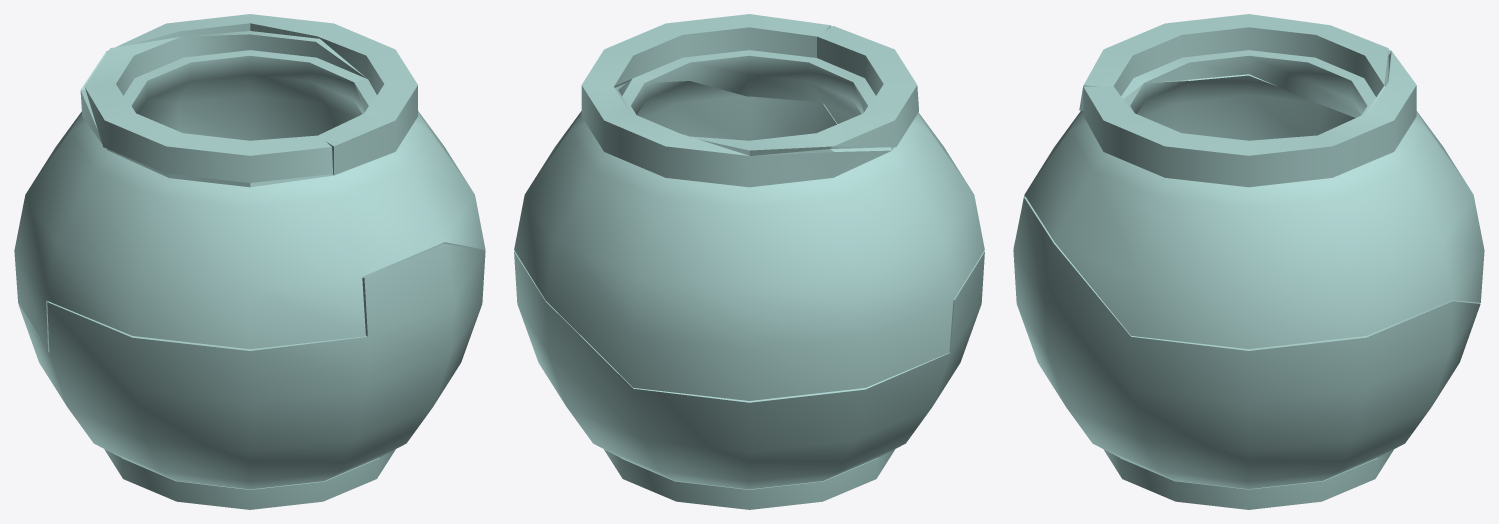
The model's file is VaseSmallShatter.fbx.
3 renders of one model, left to right at view 1: azimuth 30°, elevation 25°; view 2: azimuth 150°, elevation 25°; view 3: azimuth 270°, elevation 25°, orthographic.
Visible parts, largest first — view 1: shard62, shard61, shard63; view 2: shard62, shard61, shard63; view 3: shard62, shard61, shard63.
Part boxes in pixels (x1,y1,x2,y2): shard62: [14, 14, 485, 350]; shard61: [18, 243, 485, 509]; shard63: [84, 31, 367, 182]; shard62: [514, 14, 984, 400]; shard61: [514, 251, 984, 509]; shard63: [615, 26, 918, 155]; shard62: [1013, 50, 1484, 349]; shard61: [1013, 197, 1480, 509]; shard63: [1079, 14, 1388, 117].
Bounding box in the file's own units: 2.73 × 2.35 × 2.73.
